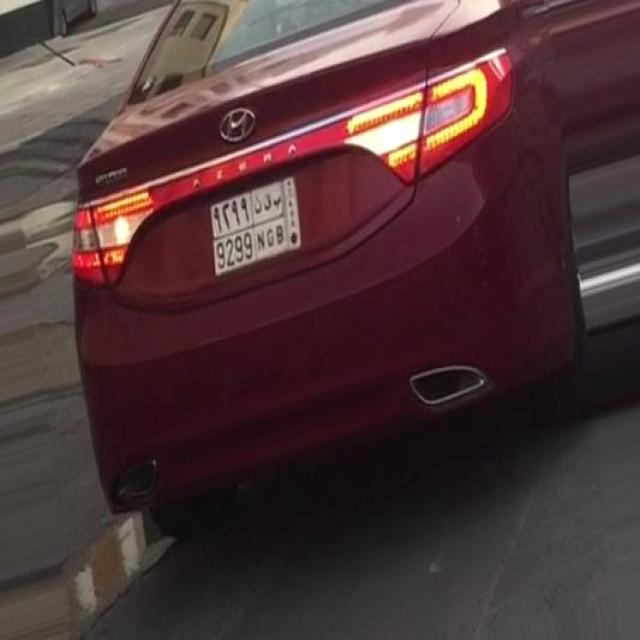Car-plate: (206, 169, 318, 290)
